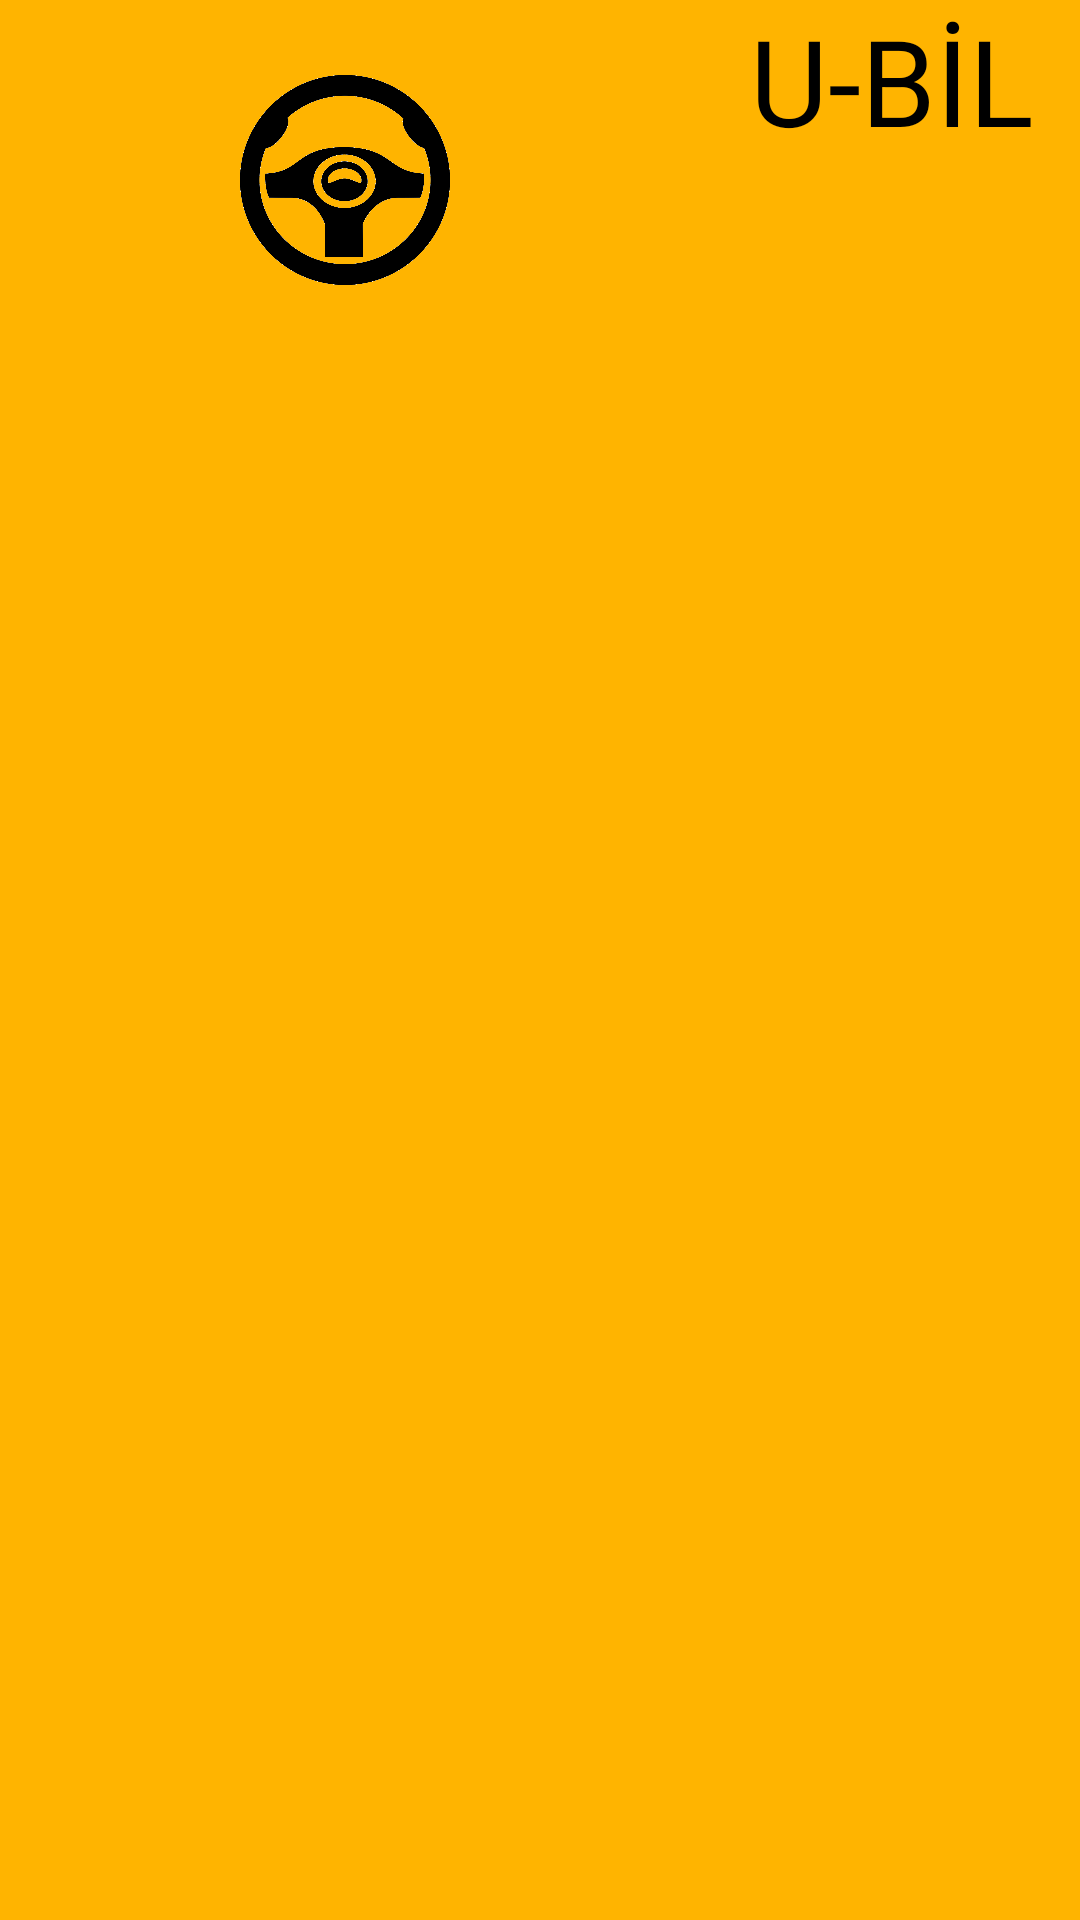

Where to tap for icons on this 1080px x 1920px app screen, as (x=x, y=y):
direksiyon: (x=345, y=180)
